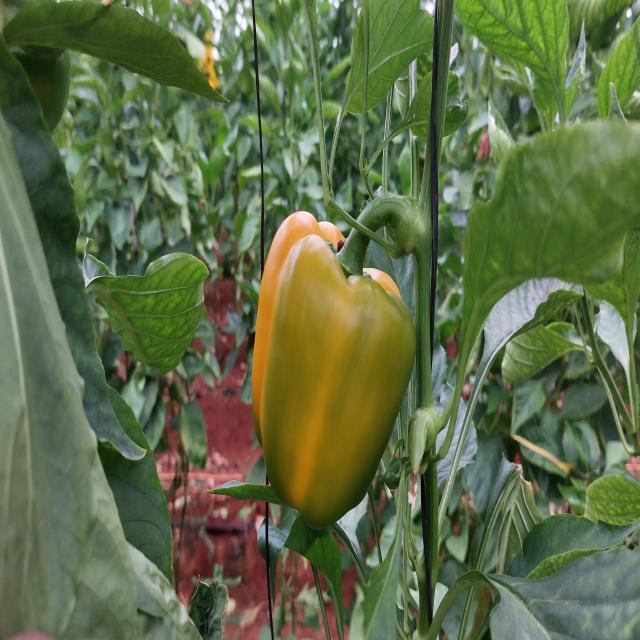GreenishYellow--Can-be-Harvested: (234, 167, 426, 568)
